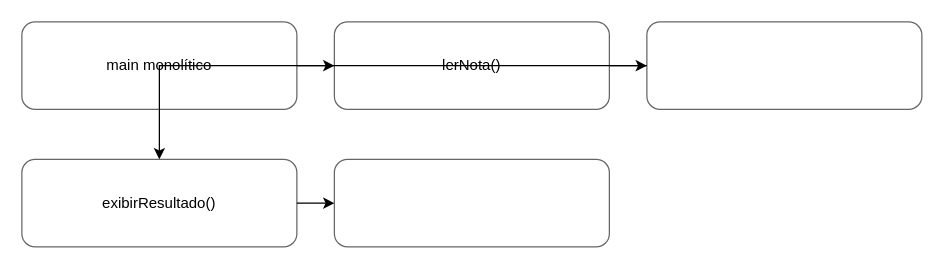
The diagram is 944 pixels wide and 269 high, and some of its shapes have lost their labels. Each missing label, with the centre of its shape:
calcularMedia(): (x=784, y=65)
main como orquestrador: (x=471, y=202)
